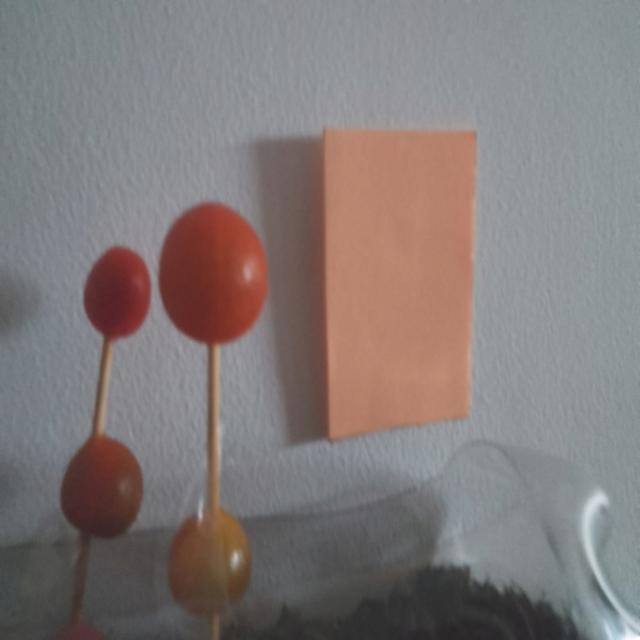card: (323, 129, 476, 440)
fruit_maturation: (169, 509, 251, 615)
fully_grown: (159, 203, 267, 345), (60, 435, 143, 538), (84, 246, 150, 339)
